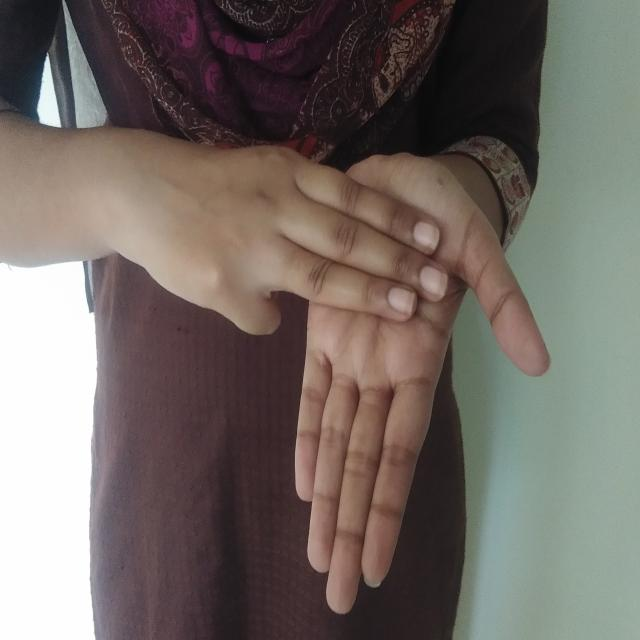M: (113, 108, 559, 623)
